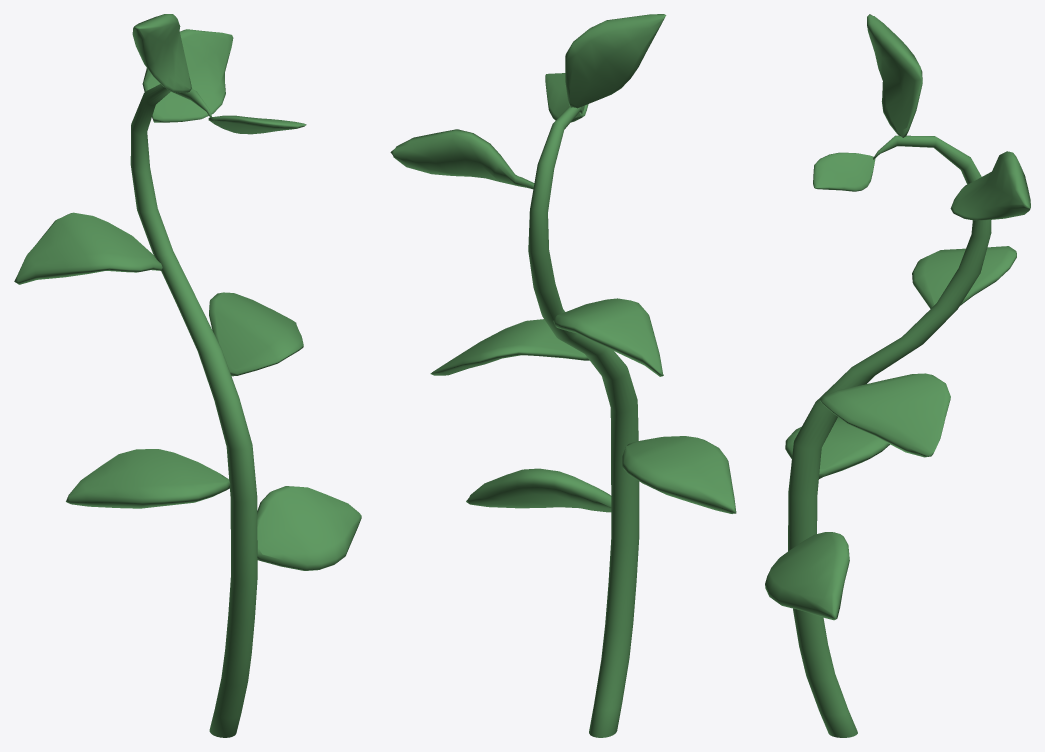
File: leaf_ivy.fbx
3 views of the same model, side by side, from view 1: azimuth 30°, elevation 25°; view 2: azimuth 150°, elevation 25°; view 3: azimuth 270°, elevation 25° (orthographic). The views are drawn at different scales.
Visible parts, largest first — view 1: leaf_ivy_full; view 2: leaf_ivy_full; view 3: leaf_ivy_full.
Part boxes in pixels (x1,y1,x2,y2): leaf_ivy_full: (14,14,361,737); leaf_ivy_full: (390,14,736,737); leaf_ivy_full: (765,14,1030,737).
Size of the model in its own units: 0.1569 by 0.3853 by 0.1357.
